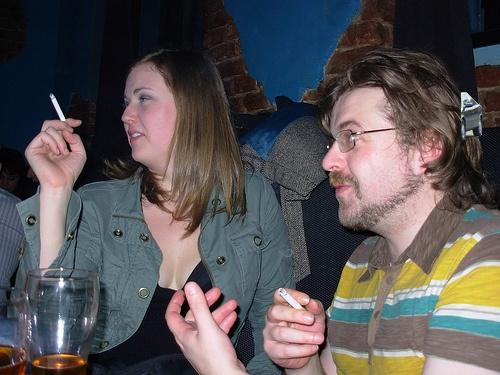tampered: (462, 93, 482, 140)
